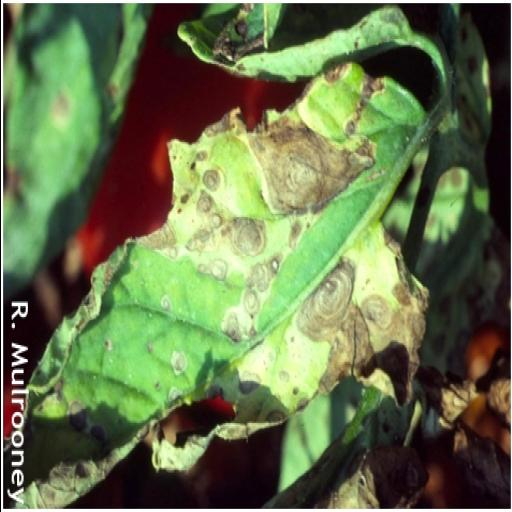disease_tomato: (26, 54, 430, 434)
